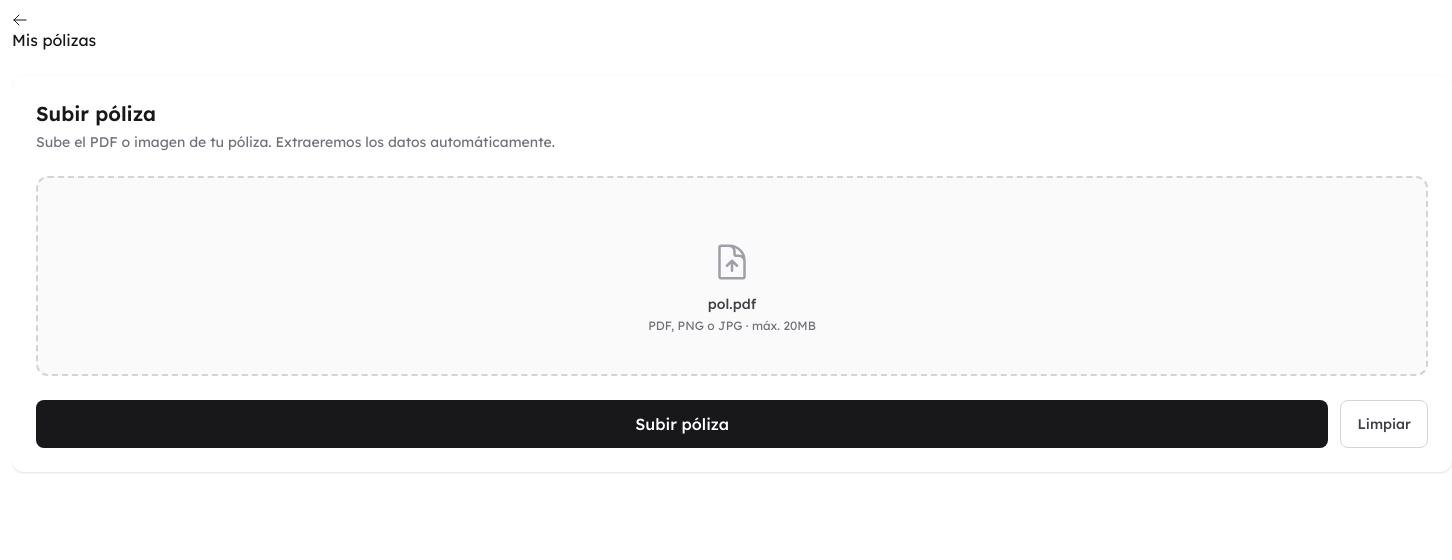
Test case: NuevaPolicyPage › shows error message when getUploadUrl fails
The width and height of the screenshot is (1452, 560).
Click the button "Subir póliza": (682,424) x1=36 y1=400 x2=1328 y2=448
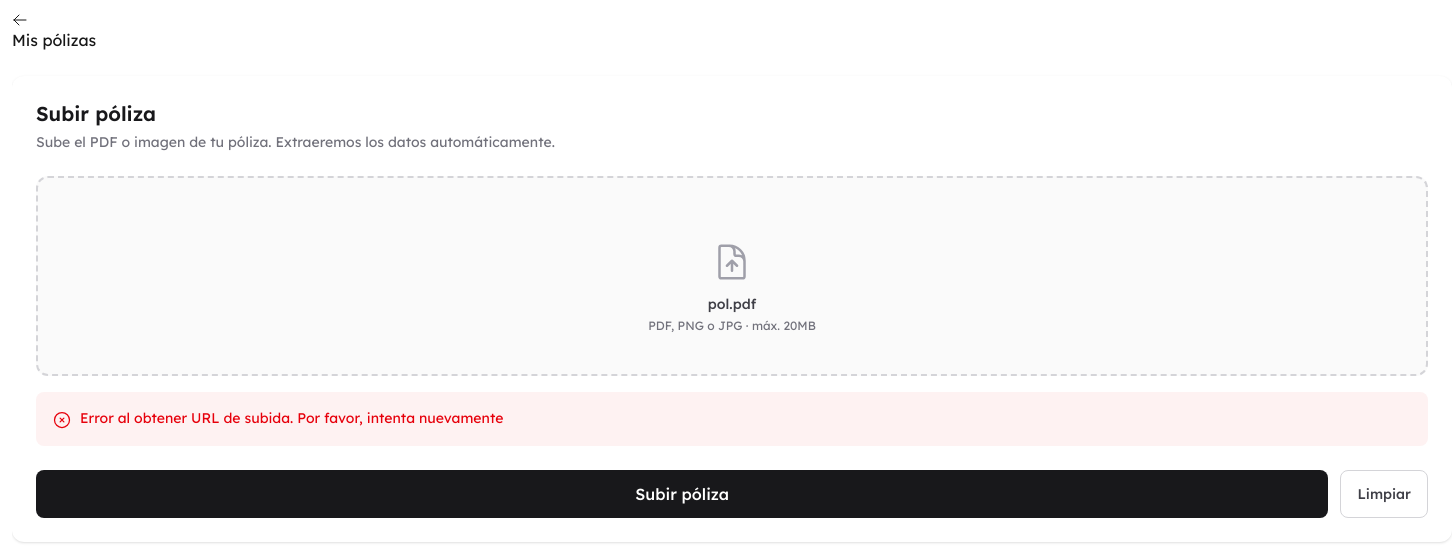
Check: the text "Error al obtener URL de subida" is shown, box x1=80 y1=409 x2=503 y2=427
